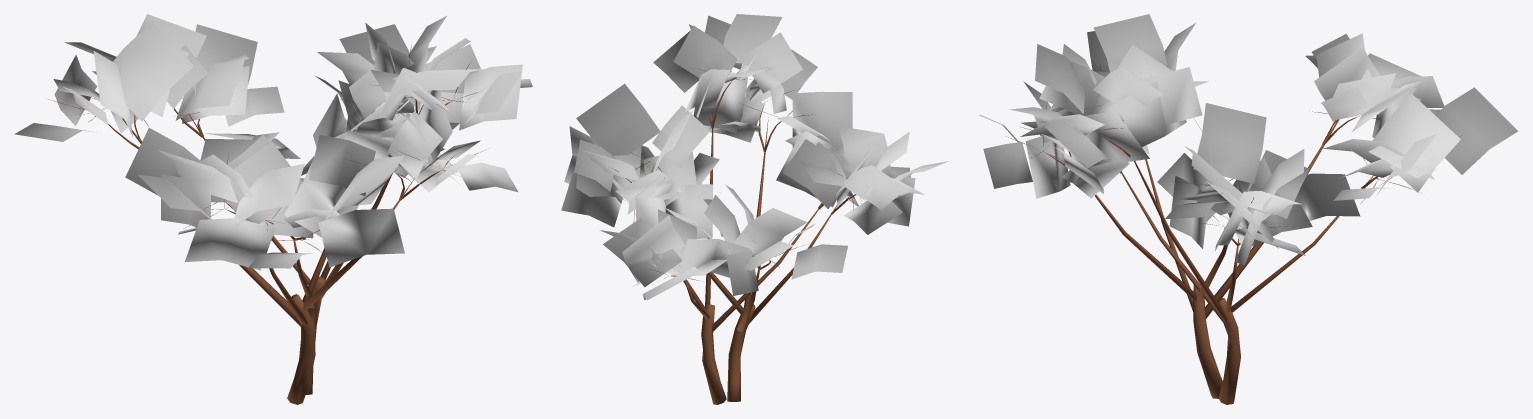
File: V7_Arbousier_0_Niveau2.fbx
3 renders of one model, left to right at view 1: azimuth 30°, elevation 25°; view 2: azimuth 150°, elevation 25°; view 3: azimuth 270°, elevation 25°, orthographic. The views are drawn at different scales.
Visible parts, largest first — view 1: V7_Arbousier_0_Detail2; view 2: V7_Arbousier_0_Detail2; view 3: V7_Arbousier_0_Detail2.
Part boxes in pixels (<box>): V7_Arbousier_0_Detail2: <box>14,14,532,404</box>; V7_Arbousier_0_Detail2: <box>561,14,948,404</box>; V7_Arbousier_0_Detail2: <box>979,14,1518,404</box>.
Bounding box in the file's own units: 351 × 331 × 431.
